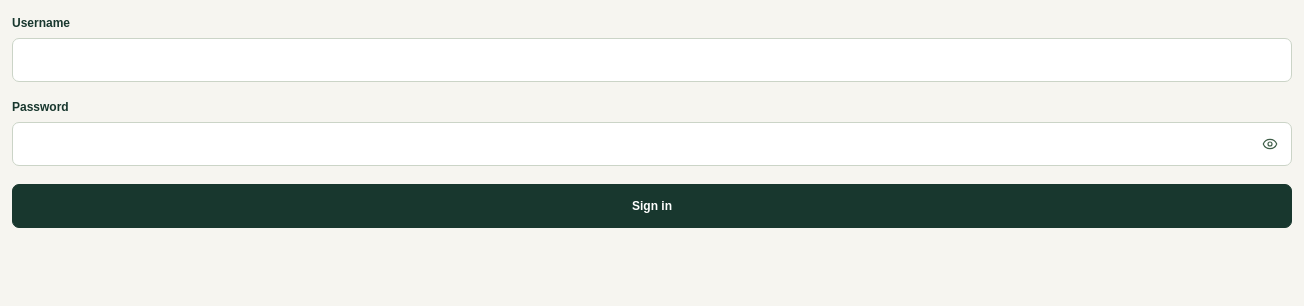
Test: LoginForm › does not open a workspace for an invalid or disabled session response
Step 1. Type "worker" into the field labelled "Username" → (652, 60), box left=12, top=38, right=1292, bottom=82
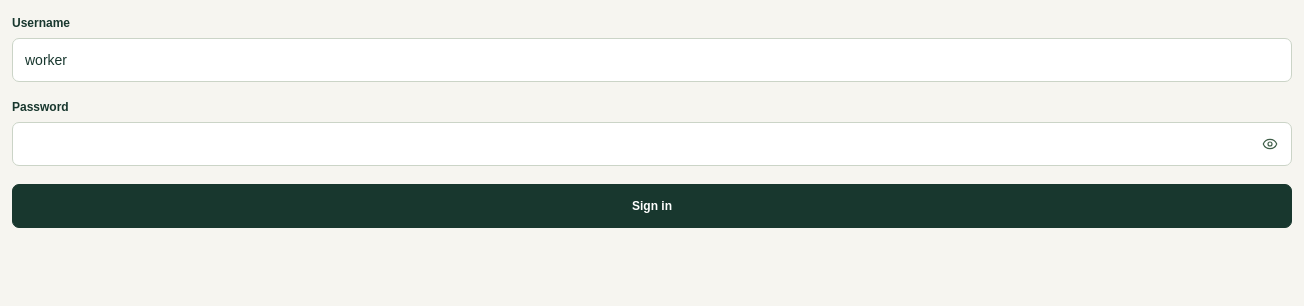
Step 2. Type "test-only-password" into the password field labelled "Password" → (652, 144), box left=12, top=122, right=1292, bottom=166
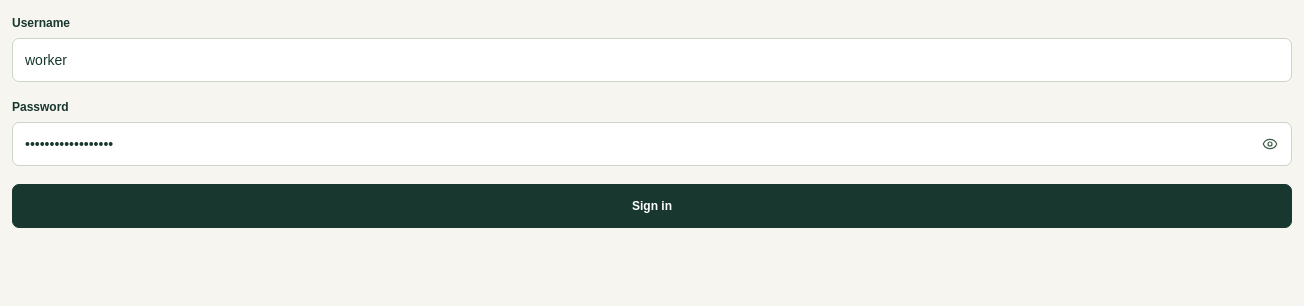
Step 3. Submit the form "Sign in"
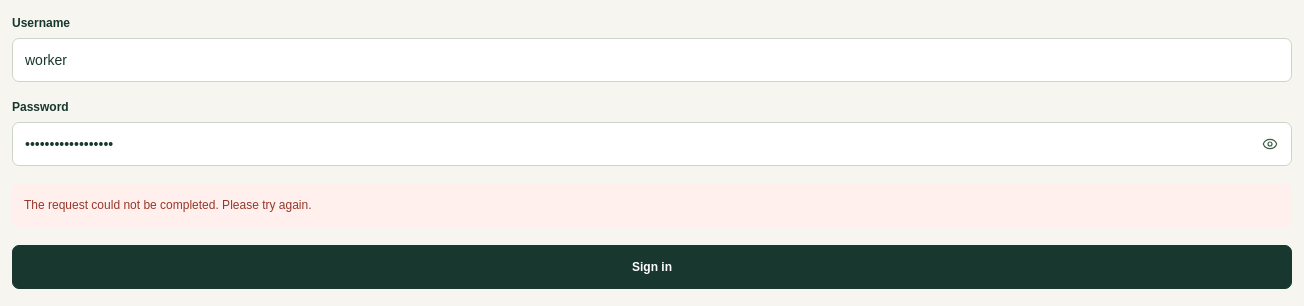
Check: the message "The request could not be completed. Please try again." is shown, box left=12, top=184, right=1292, bottom=227
